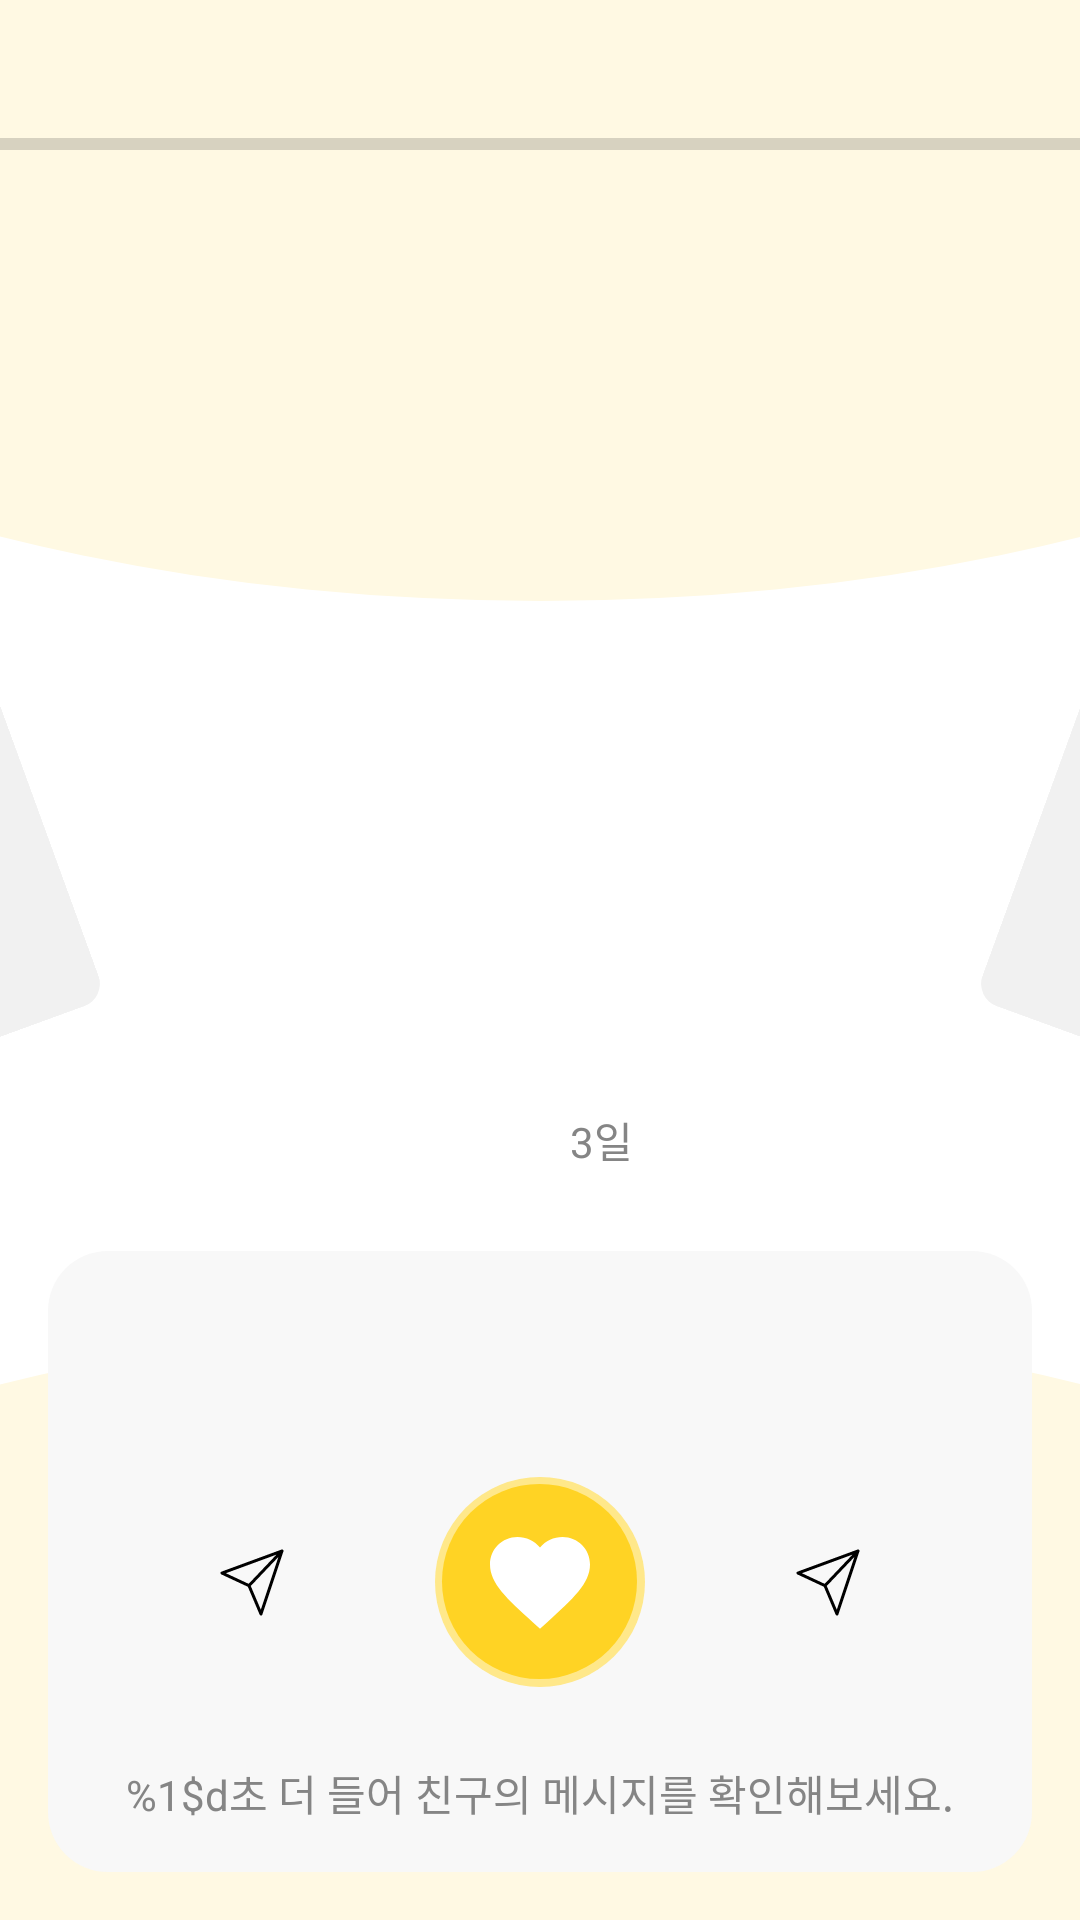

Screen size 1080 x 1920. Icon name, then its center in pixels as point (x, y):
share: point (252, 1582), point (828, 1582)
